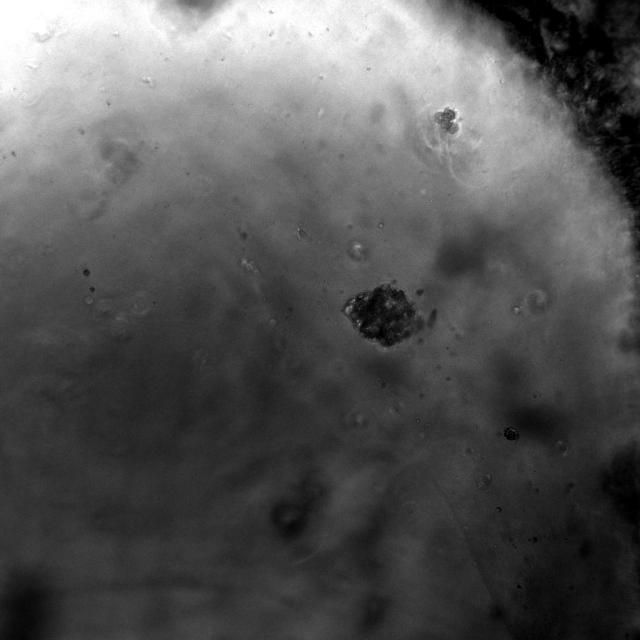organoid: (342, 283, 418, 348), (434, 107, 458, 135), (502, 427, 519, 441)
